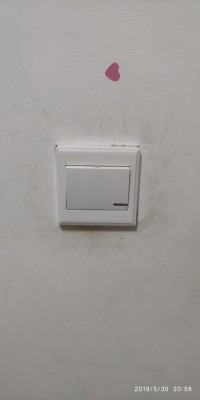switch: (58, 162, 140, 214)
